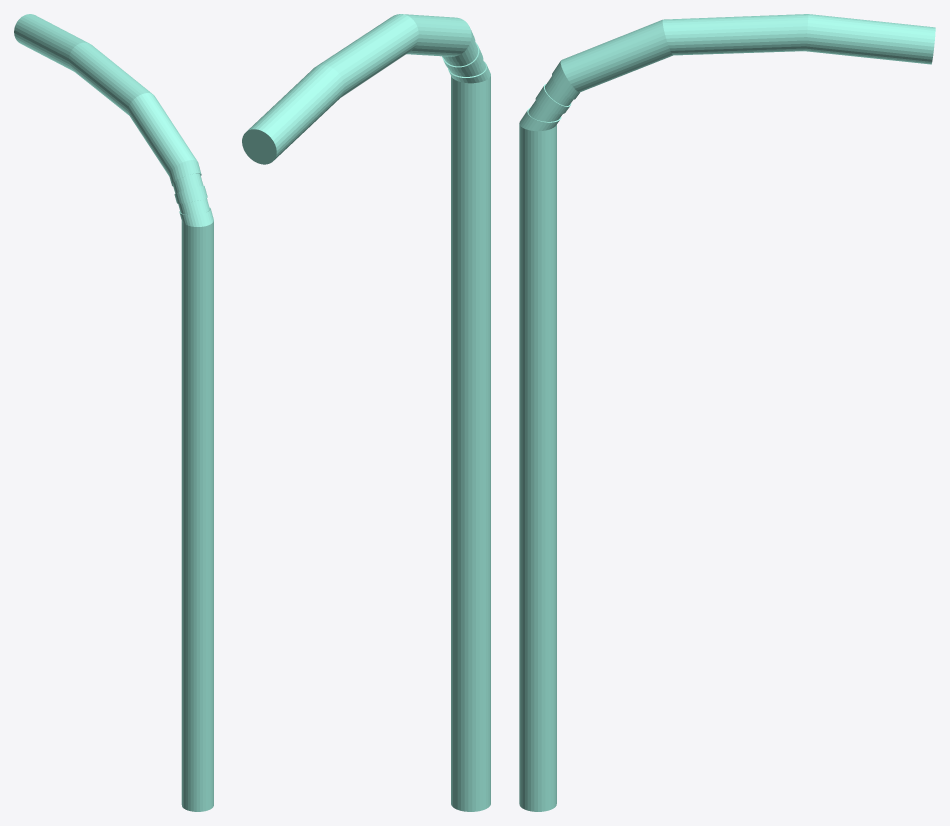
File: item-pariwasta_Sedotan.fbx
3 renders of one model, left to right at view 1: azimuth 30°, elevation 25°; view 2: azimuth 150°, elevation 25°; view 3: azimuth 270°, elevation 25°, orthographic. The views are drawn at different scales.
Visible parts, largest first — view 1: sedotan; view 2: sedotan; view 3: sedotan.
Part boxes in pixels (x1,y1,x2,y2): sedotan: (14, 14, 213, 811); sedotan: (242, 14, 490, 811); sedotan: (519, 14, 935, 811).
Bounding box in the file's own units: 6 × 139 × 66.7.
